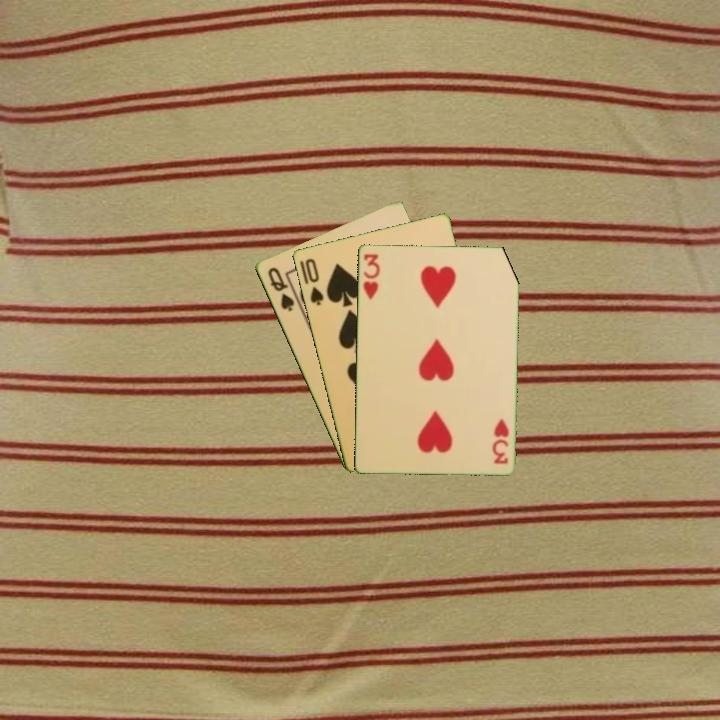10s: (301, 255, 326, 308)
3h: (360, 250, 382, 302), (489, 415, 511, 467)
Qs: (264, 263, 297, 314)
